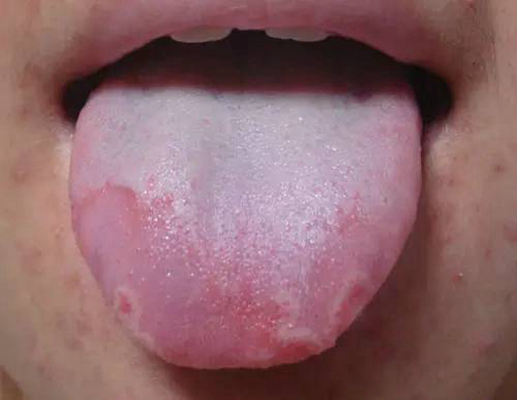baitaishe: (69, 59, 421, 369)
botaishe: (74, 177, 151, 276), (324, 270, 377, 337)
